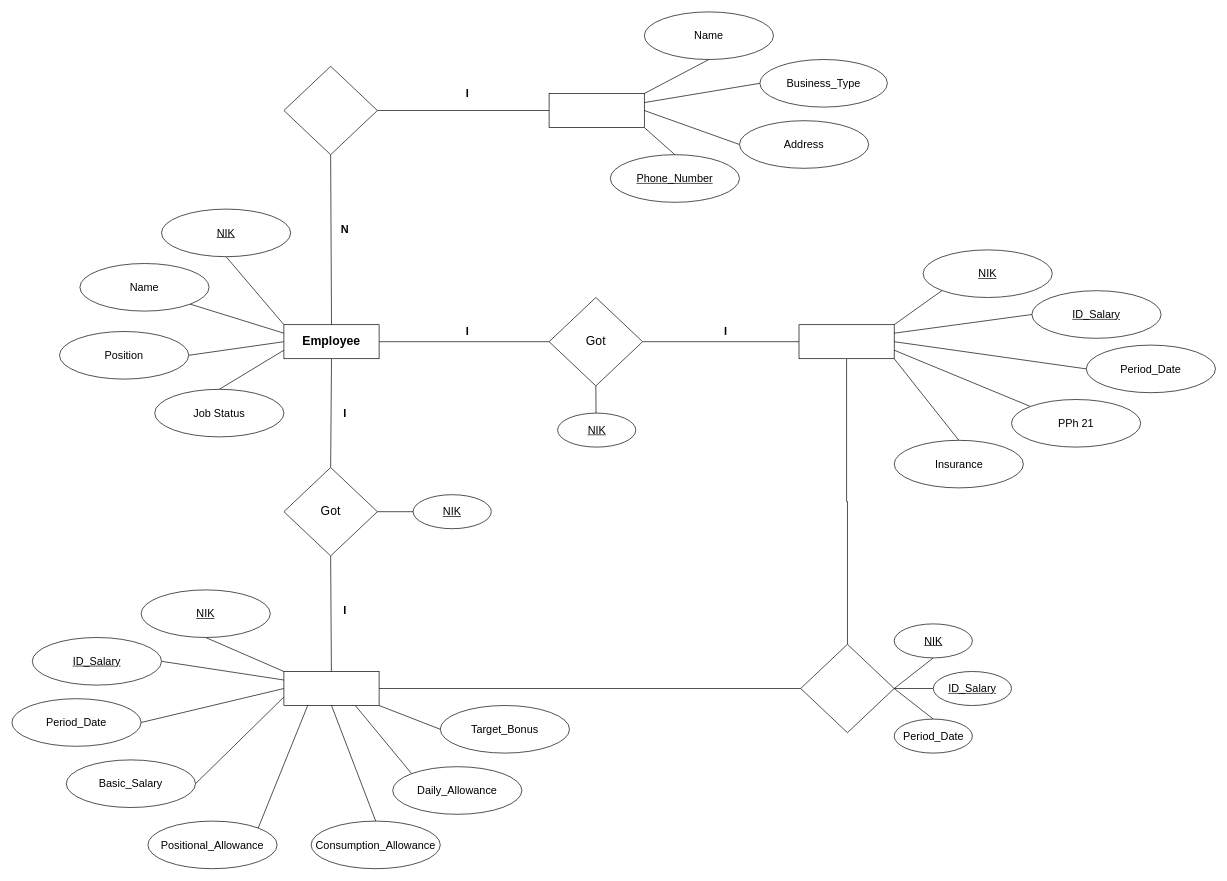
This 1227x881 diagram has some shape labels left out. Each missing label, with the centre of its shape:
Calculate Net Salary: the point at 847,688
Company: the point at 596,110
Deduction: the point at 846,341
Has: the point at 330,110
Salary: the point at 331,688
